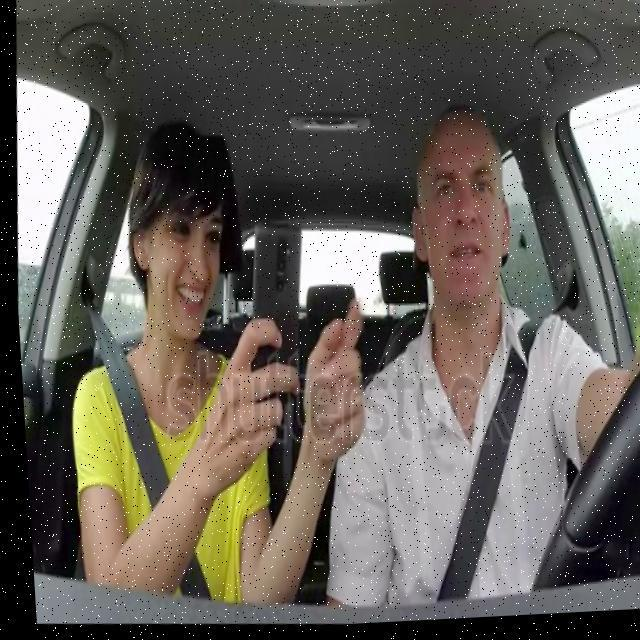PhoneCall: (238, 224, 306, 403)
